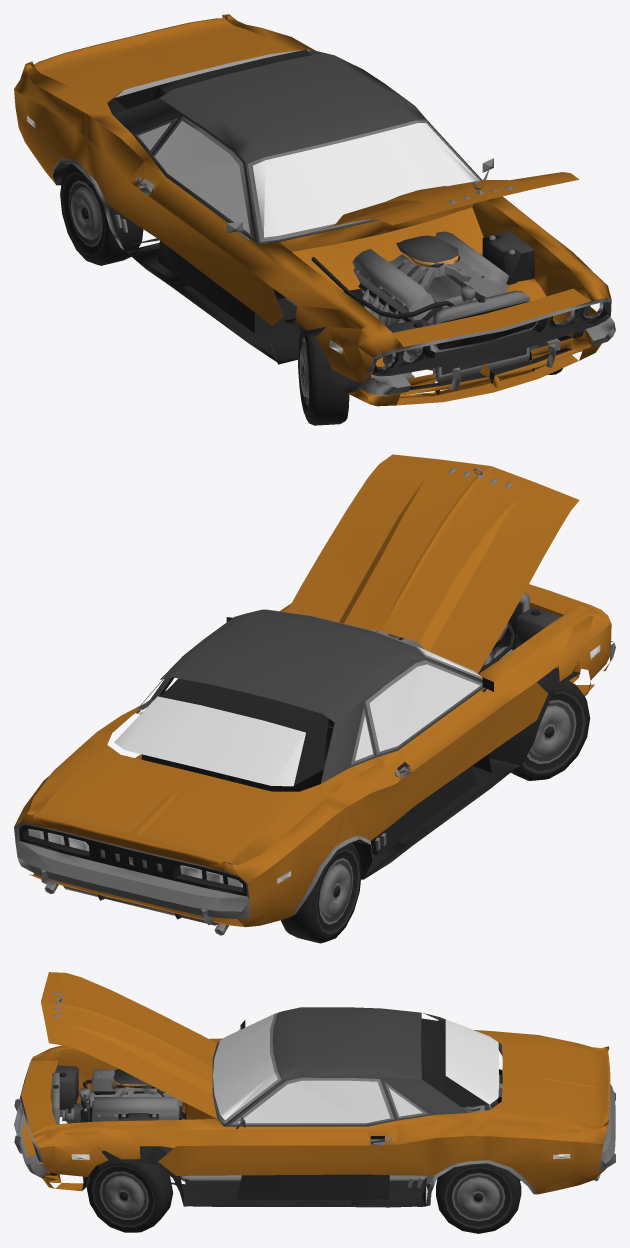
The model's file is car-muscle-coupe-hoodup.glb.
The picture shows the model from 3 angles, top to bottom: view 1: azimuth 30°, elevation 25°; view 2: azimuth 150°, elevation 25°; view 3: azimuth 270°, elevation 25°; orthographic projection. The views are drawn at different scales.
Visible parts, largest first — view 1: Body, Trunk, Engine, Engine_Details, Wheel RR, Hood, Wheel FR, Cables; view 2: Body, Hood, Trunk, Wheel RR, Wheel FR, Engine_Details, Chassis; view 3: Body, Hood, Trunk, Wheel FL, Wheel RL, Engine, Engine_Details, Chassis.
Boxes of the visible parts, bbox=[...] form: Body: bbox=[14, 14, 615, 406]; Trunk: bbox=[34, 18, 290, 102]; Engine: bbox=[352, 231, 509, 370]; Engine_Details: bbox=[383, 231, 534, 382]; Wheel RR: bbox=[60, 163, 143, 265]; Hood: bbox=[290, 172, 579, 238]; Wheel FR: bbox=[297, 330, 349, 425]; Cables: bbox=[311, 257, 454, 318]; Body: bbox=[14, 584, 615, 927]; Hood: bbox=[287, 454, 579, 673]; Trunk: bbox=[33, 745, 298, 870]; Wheel RR: bbox=[280, 842, 361, 943]; Wheel FR: bbox=[511, 676, 590, 780]; Engine_Details: bbox=[498, 592, 561, 650]; Chassis: bbox=[44, 665, 558, 935]; Body: bbox=[14, 1007, 615, 1207]; Hood: bbox=[41, 972, 216, 1118]; Trunk: bbox=[490, 1036, 610, 1124]; Wheel FL: bbox=[86, 1162, 172, 1232]; Wheel RL: bbox=[436, 1163, 521, 1233]; Engine: bbox=[62, 1069, 182, 1153]; Engine_Details: bbox=[52, 1065, 158, 1124]; Chassis: bbox=[59, 1083, 600, 1184].
Bounding box in the file's own units: 2.01 × 1.71 × 4.86.
